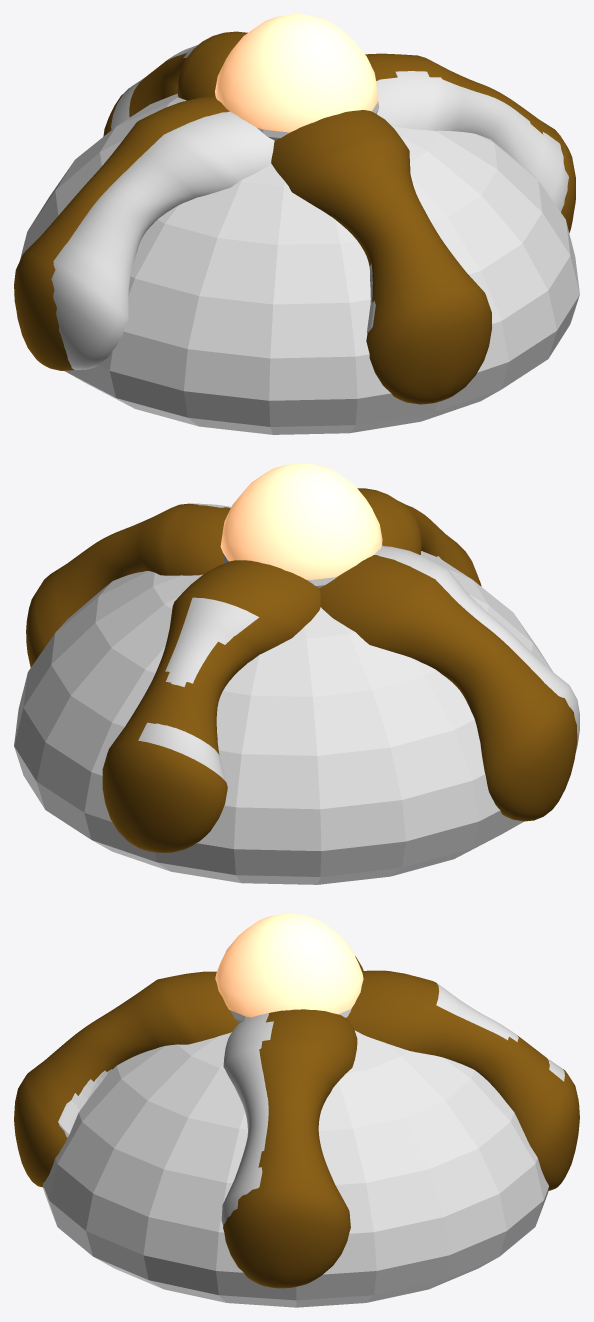
Rendered from pan de muerto vdd .fbx.
3 views of the same model, one above another, from view 1: azimuth 30°, elevation 25°; view 2: azimuth 150°, elevation 25°; view 3: azimuth 270°, elevation 25° (orthographic). The views are drawn at different scales.
Parts seen in each view (by area): view 1: Esfera, Esfera.002, Esfera.009, Esfera.011, Esfera.005, Esfera.008, Esfera.003, Esfera.004, Esfera.007; view 2: Esfera, Esfera.005, Esfera.003, Esfera.011, Esfera.004, Esfera.007, Esfera.002, Esfera.009; view 3: Esfera, Esfera.004, Esfera.003, Esfera.002, Esfera.011, Esfera.008, Esfera.007, Esfera.006.
Part boxes in pixels (x1,y1,x2,y2): Esfera: (20, 93, 579, 434); Esfera.002: (271, 110, 491, 404); Esfera.009: (51, 111, 274, 369); Esfera.011: (215, 14, 378, 132); Esfera.005: (14, 96, 229, 370); Esfera.008: (376, 71, 568, 211); Esfera.003: (103, 31, 247, 136); Esfera.004: (365, 53, 575, 232); Esfera.007: (111, 36, 211, 129); Esfera: (14, 551, 552, 884); Esfera.005: (319, 555, 577, 821); Esfera.003: (102, 560, 320, 852); Esfera.011: (220, 463, 382, 580); Esfera.004: (26, 503, 230, 667); Esfera.007: (138, 597, 259, 782); Esfera.002: (357, 488, 481, 586); Esfera.009: (374, 546, 579, 752); Esfera: (43, 1030, 548, 1307); Esfera.004: (223, 1009, 357, 1288); Esfera.003: (346, 970, 579, 1190); Esfera.002: (14, 971, 239, 1187); Esfera.011: (215, 913, 363, 1017); Esfera.008: (221, 1013, 273, 1225); Esfera.007: (436, 983, 564, 1081); Esfera.006: (58, 1069, 112, 1137).
Size of the model in its own units: 383 by 222 by 380.
